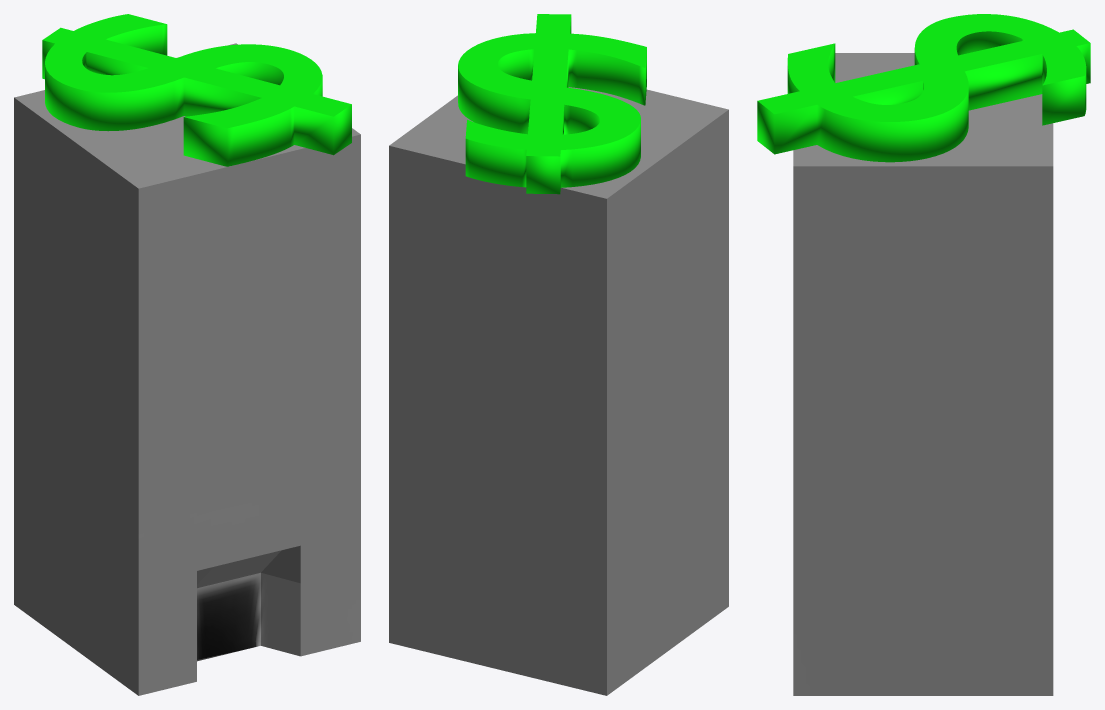
The model's file is predio.fbx.
3 renders of one model, left to right at view 1: azimuth 30°, elevation 25°; view 2: azimuth 150°, elevation 25°; view 3: azimuth 270°, elevation 25°, orthographic. The views are drawn at different scales.
Parts seen in each view (by area): view 1: Cube.001, Text; view 2: Cube.001, Text; view 3: Cube.001, Text.
Boxes of the visible parts, x1=… form: Cube.001: x1=14, y1=43, x2=360, y2=695; Text: x1=42, y1=14, x2=351, y2=166; Cube.001: x1=389, y1=87, x2=728, y2=695; Text: x1=458, y1=14, x2=646, y2=194; Cube.001: x1=793, y1=53, x2=1053, y2=695; Text: x1=757, y1=14, x2=1090, y2=162.
Bounding box in the file's own units: 627 × 1477 × 779.
